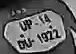1: (37, 15, 45, 25), (35, 33, 43, 43)
2: (52, 27, 61, 39), (47, 29, 54, 42)
4: (43, 13, 53, 24)
9: (41, 32, 48, 42)
D: (16, 39, 27, 51)
P: (26, 18, 34, 30)
U: (17, 19, 27, 32), (24, 37, 33, 48)
